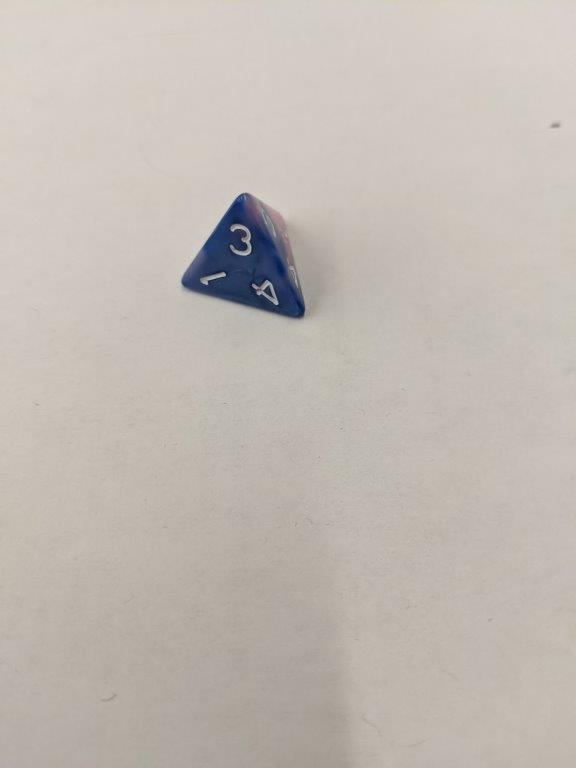d4-3: (178, 191, 309, 326)
